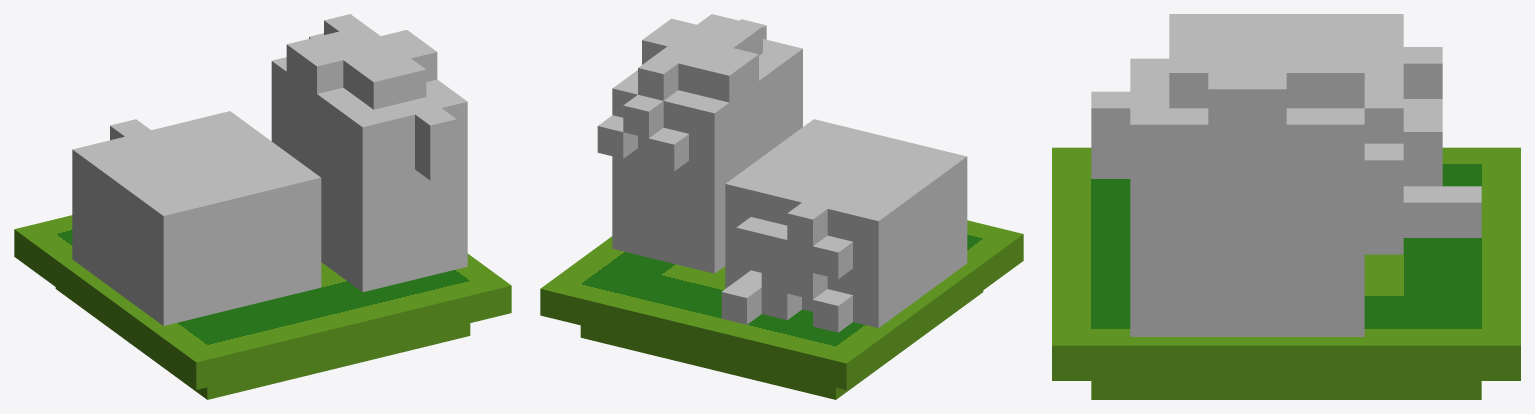
File: PrefabBuena2.fbx
The picture shows the model from 3 angles, left to right: view 1: azimuth 30°, elevation 25°; view 2: azimuth 150°, elevation 25°; view 3: azimuth 270°, elevation 25°; orthographic projection. The views are drawn at different scales.
Visible parts, largest first — view 1: ComidaBuena2; view 2: ComidaBuena2; view 3: ComidaBuena2.
Boxes of the visible parts, <box> form: ComidaBuena2: <box>14,14,511,399</box>; ComidaBuena2: <box>540,14,1023,399</box>; ComidaBuena2: <box>1052,14,1520,399</box>.
Size of the model in its own units: 1.2 by 1.2 by 0.9.
